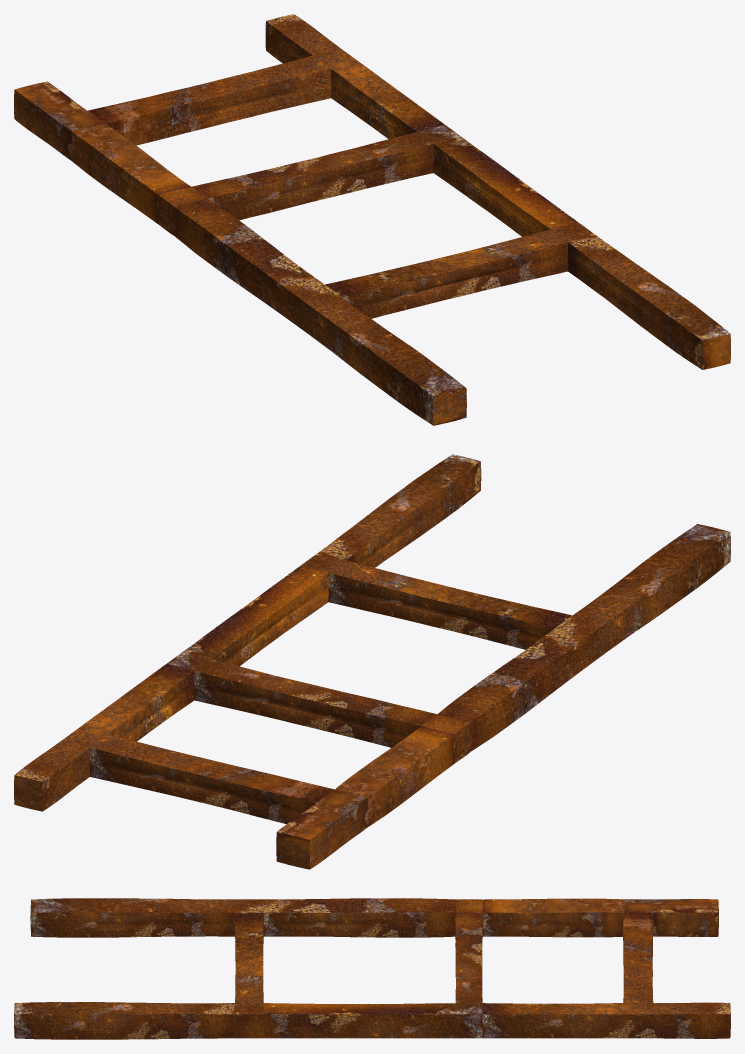
File: FierroGrande.fbx
3 views of the same model, one above another, from view 1: azimuth 30°, elevation 25°; view 2: azimuth 150°, elevation 25°; view 3: azimuth 270°, elevation 25° (orthographic). The views are drawn at different scales.
Parts seen in each view (by area): view 1: Escombro Grande.002; view 2: Escombro Grande.002; view 3: Escombro Grande.002.
Part boxes in pixels (x1,y1,x2,y2): Escombro Grande.002: (14,14,730,425); Escombro Grande.002: (14,454,730,869); Escombro Grande.002: (14,898,730,1039).
Bounding box in the file's own units: 988 × 109 × 2567.
